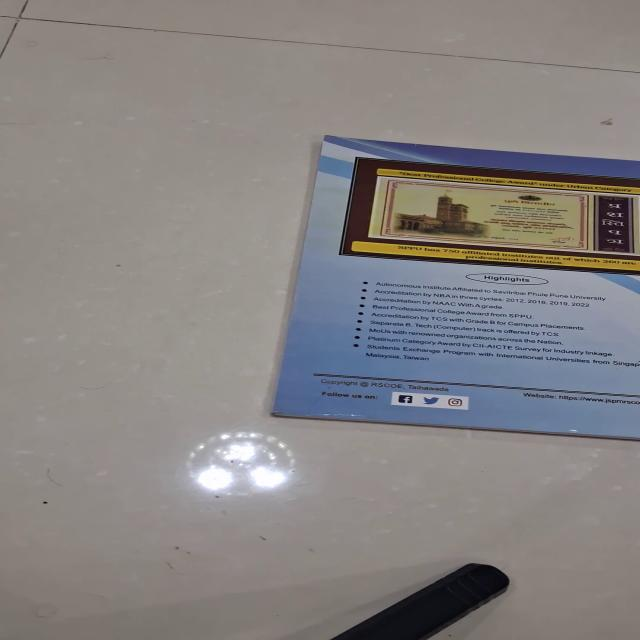paper: (269, 134, 639, 440)
